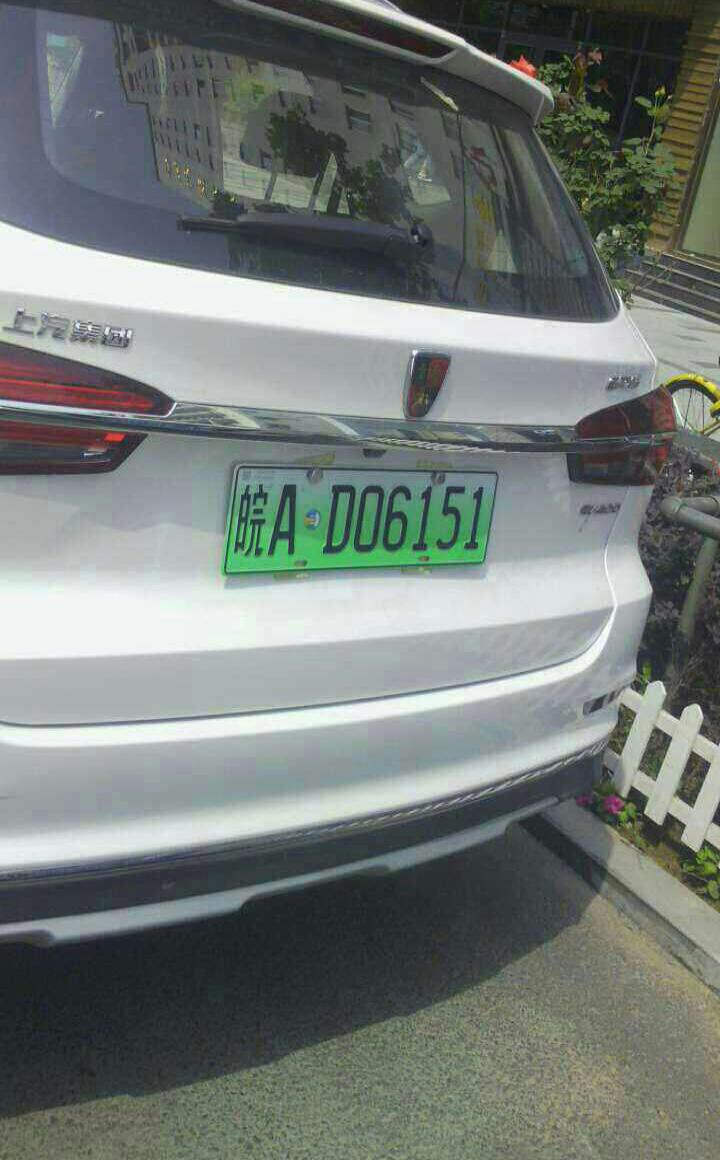car_id: (226, 468, 496, 571)
